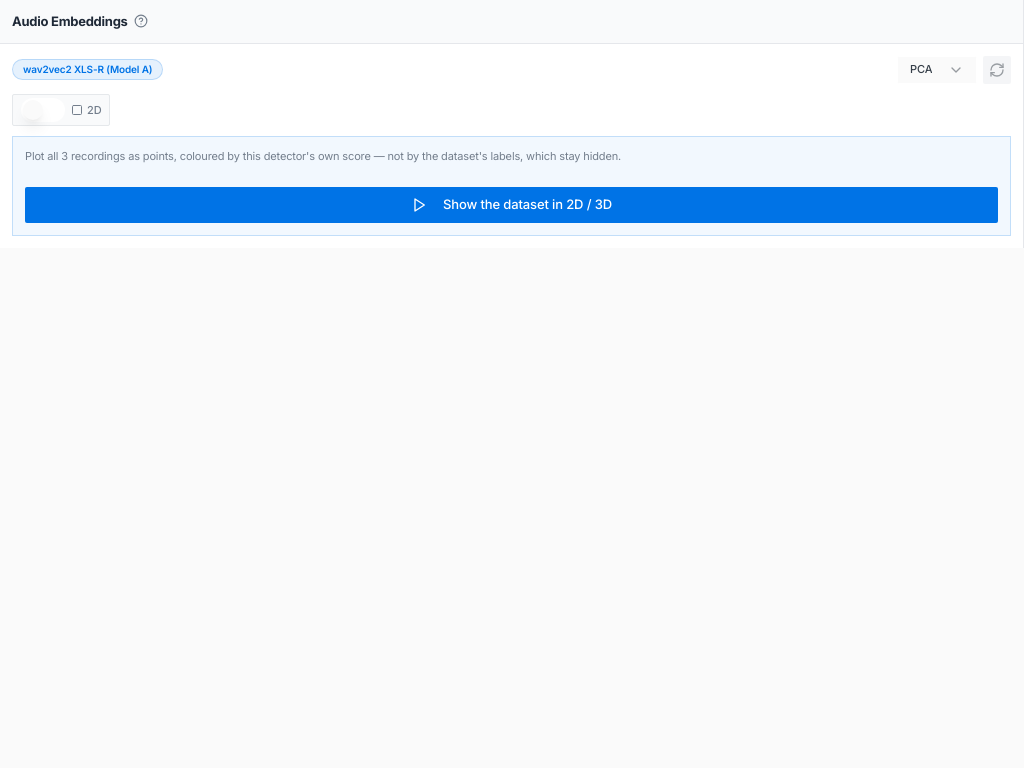
Test: DeepfakeEmbeddingPanel › shows the selected recording's score, from the model and not the protocol
The image size is (1024, 768).
Click the button "Show the dataset in 2D / 3D": {"x": 512, "y": 205} [25, 187, 998, 223]
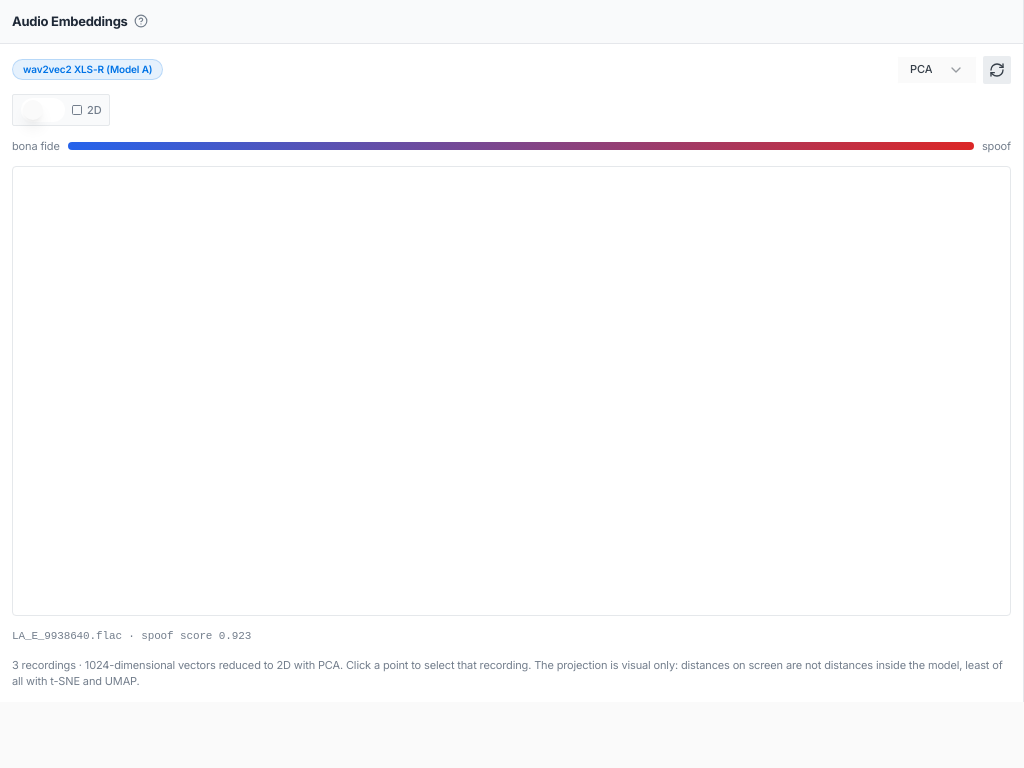
expect the text "LA_E_9938640.flac · spoof score 0.923" is shown: met, box [12, 630, 251, 642]
